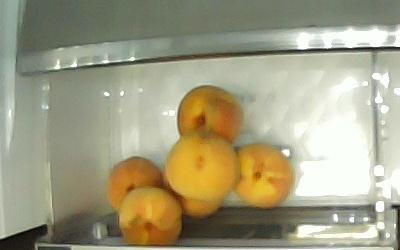peach: (165, 132, 238, 197), (231, 143, 292, 207), (118, 186, 181, 245), (176, 85, 242, 141), (162, 170, 223, 217), (108, 157, 161, 208)
